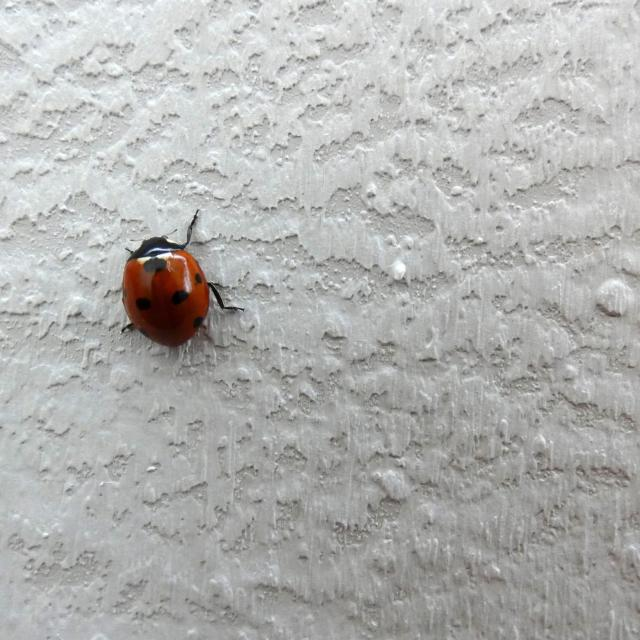ladybug: (122, 210, 243, 347)
